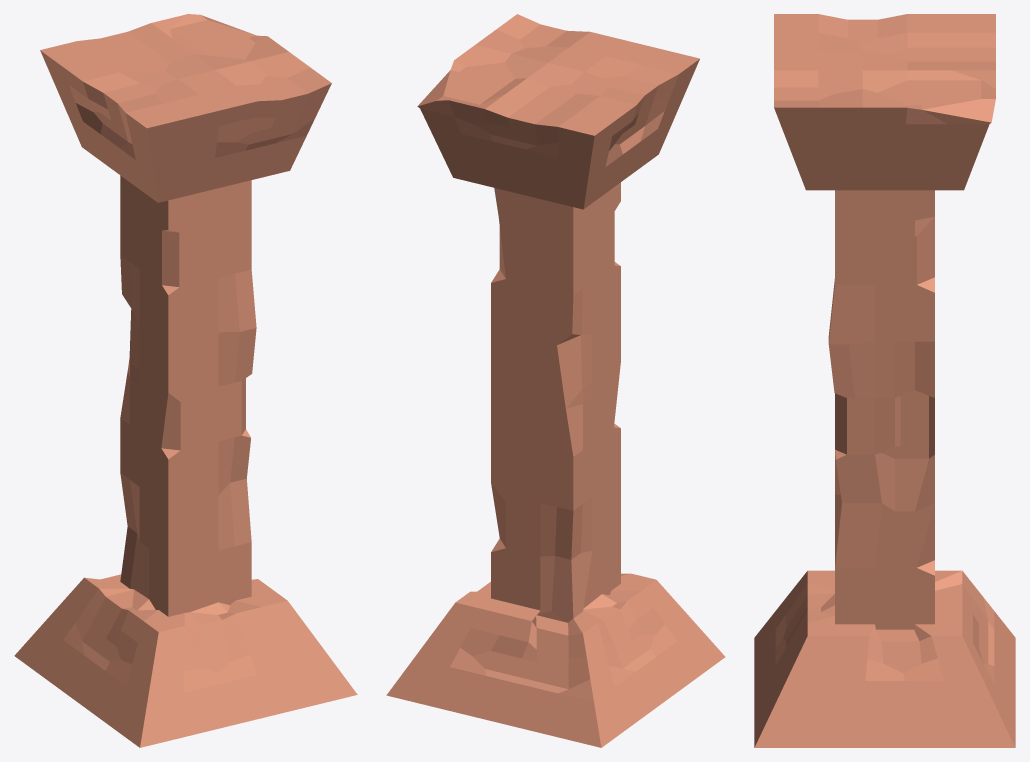
The model's file is templePillar.fbx.
3 views of the same model, side by side, from view 1: azimuth 30°, elevation 25°; view 2: azimuth 150°, elevation 25°; view 3: azimuth 270°, elevation 25° (orthographic). The views are drawn at different scales.
Visible parts, largest first — view 1: Cube.002; view 2: Cube.002; view 3: Cube.002.
Part boxes in pixels (x1,y1,x2,y2): Cube.002: (14,14,357,747); Cube.002: (386,14,725,747); Cube.002: (754,14,1015,747).
Bounding box in the file's own units: 1640 × 4381 × 1640.
